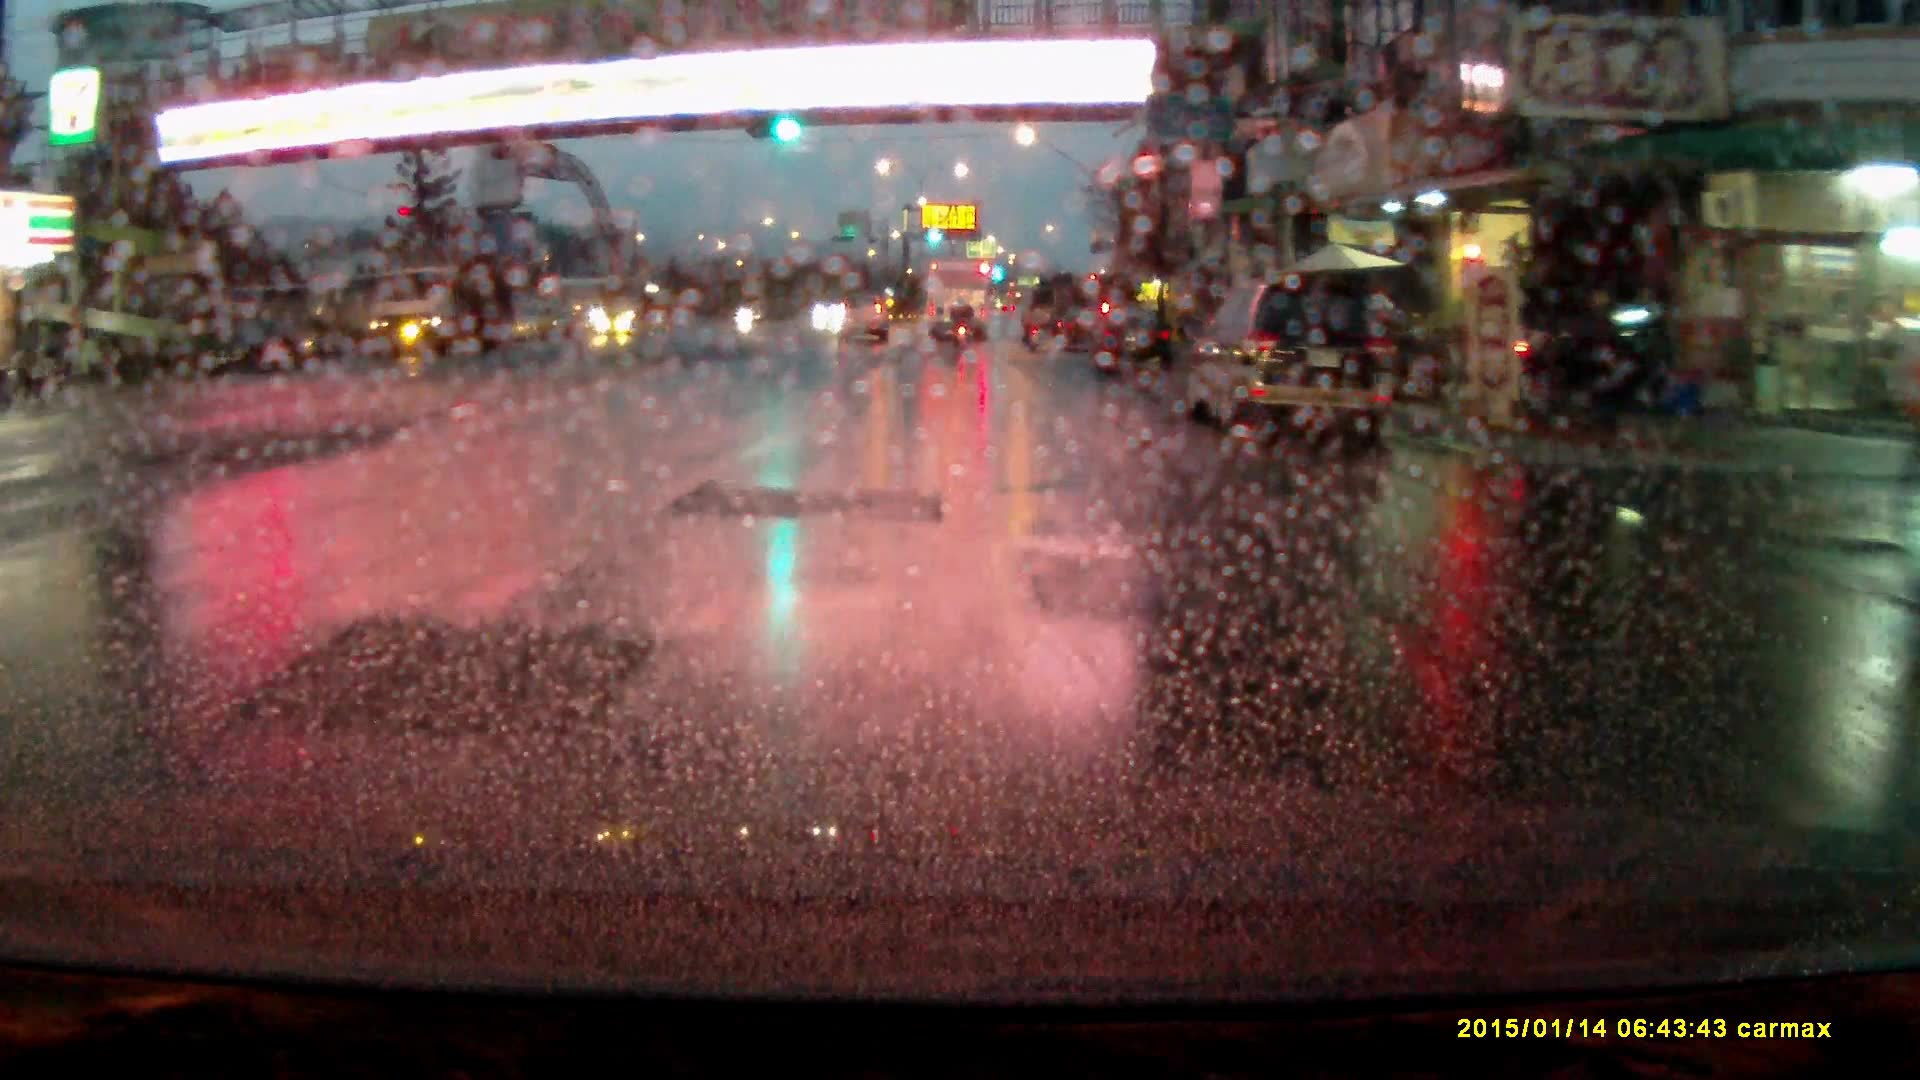rider: (950, 292, 975, 352)
vehicle: (1185, 276, 1399, 439), (1529, 291, 1663, 411), (361, 261, 507, 360), (925, 259, 993, 338), (1093, 308, 1176, 371), (595, 283, 673, 341), (837, 294, 895, 343), (1063, 305, 1109, 350)
